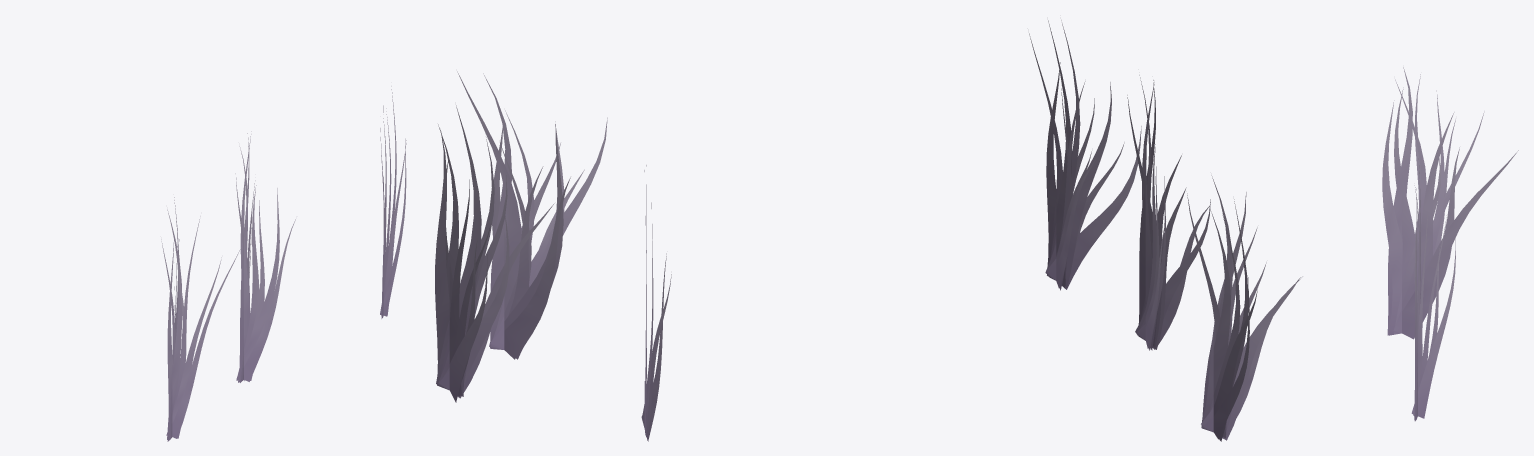
Rendered from mesh-plant-027-bronze-fan_LOD0.glb.
3 renders of one model, left to right at view 1: azimuth 30°, elevation 25°; view 2: azimuth 150°, elevation 25°; view 3: azimuth 270°, elevation 25°, orthographic. The views are drawn at different scales.
Visible parts, largest first — view 1: geometry_0; view 2: geometry_0; view 3: geometry_0.
Boxes of the visible parts, x1=… form: geometry_0: x1=161, y1=86, x2=406, y2=441; geometry_0: x1=435, y1=71, x2=671, y2=441; geometry_0: x1=1029, y1=20, x2=1518, y2=441.
Size of the model in its own units: 1.4 by 0.9589 by 1.55.
